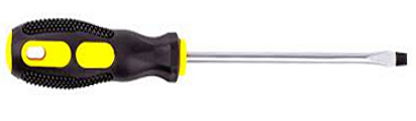Screwdriver: (4, 11, 413, 91)
